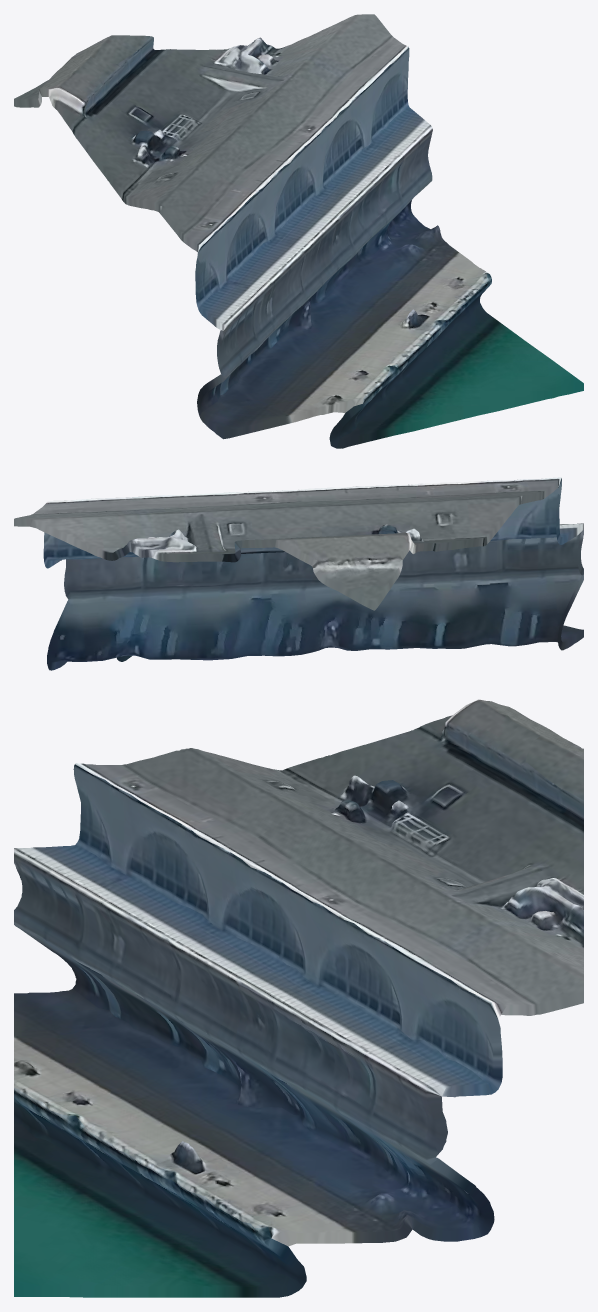
File: z20-167791-405219-h0-yup-uvflip-v3-world.glb
3 renders of one model, top to bottom at view 1: azimuth 30°, elevation 25°; view 2: azimuth 150°, elevation 25°; view 3: azimuth 270°, elevation 25°, orthographic. The views are drawn at different scales.
Size of the model in its own units: 30.16 by 21.32 by 30.32.
Materials: 1 (1 with a texture image).
